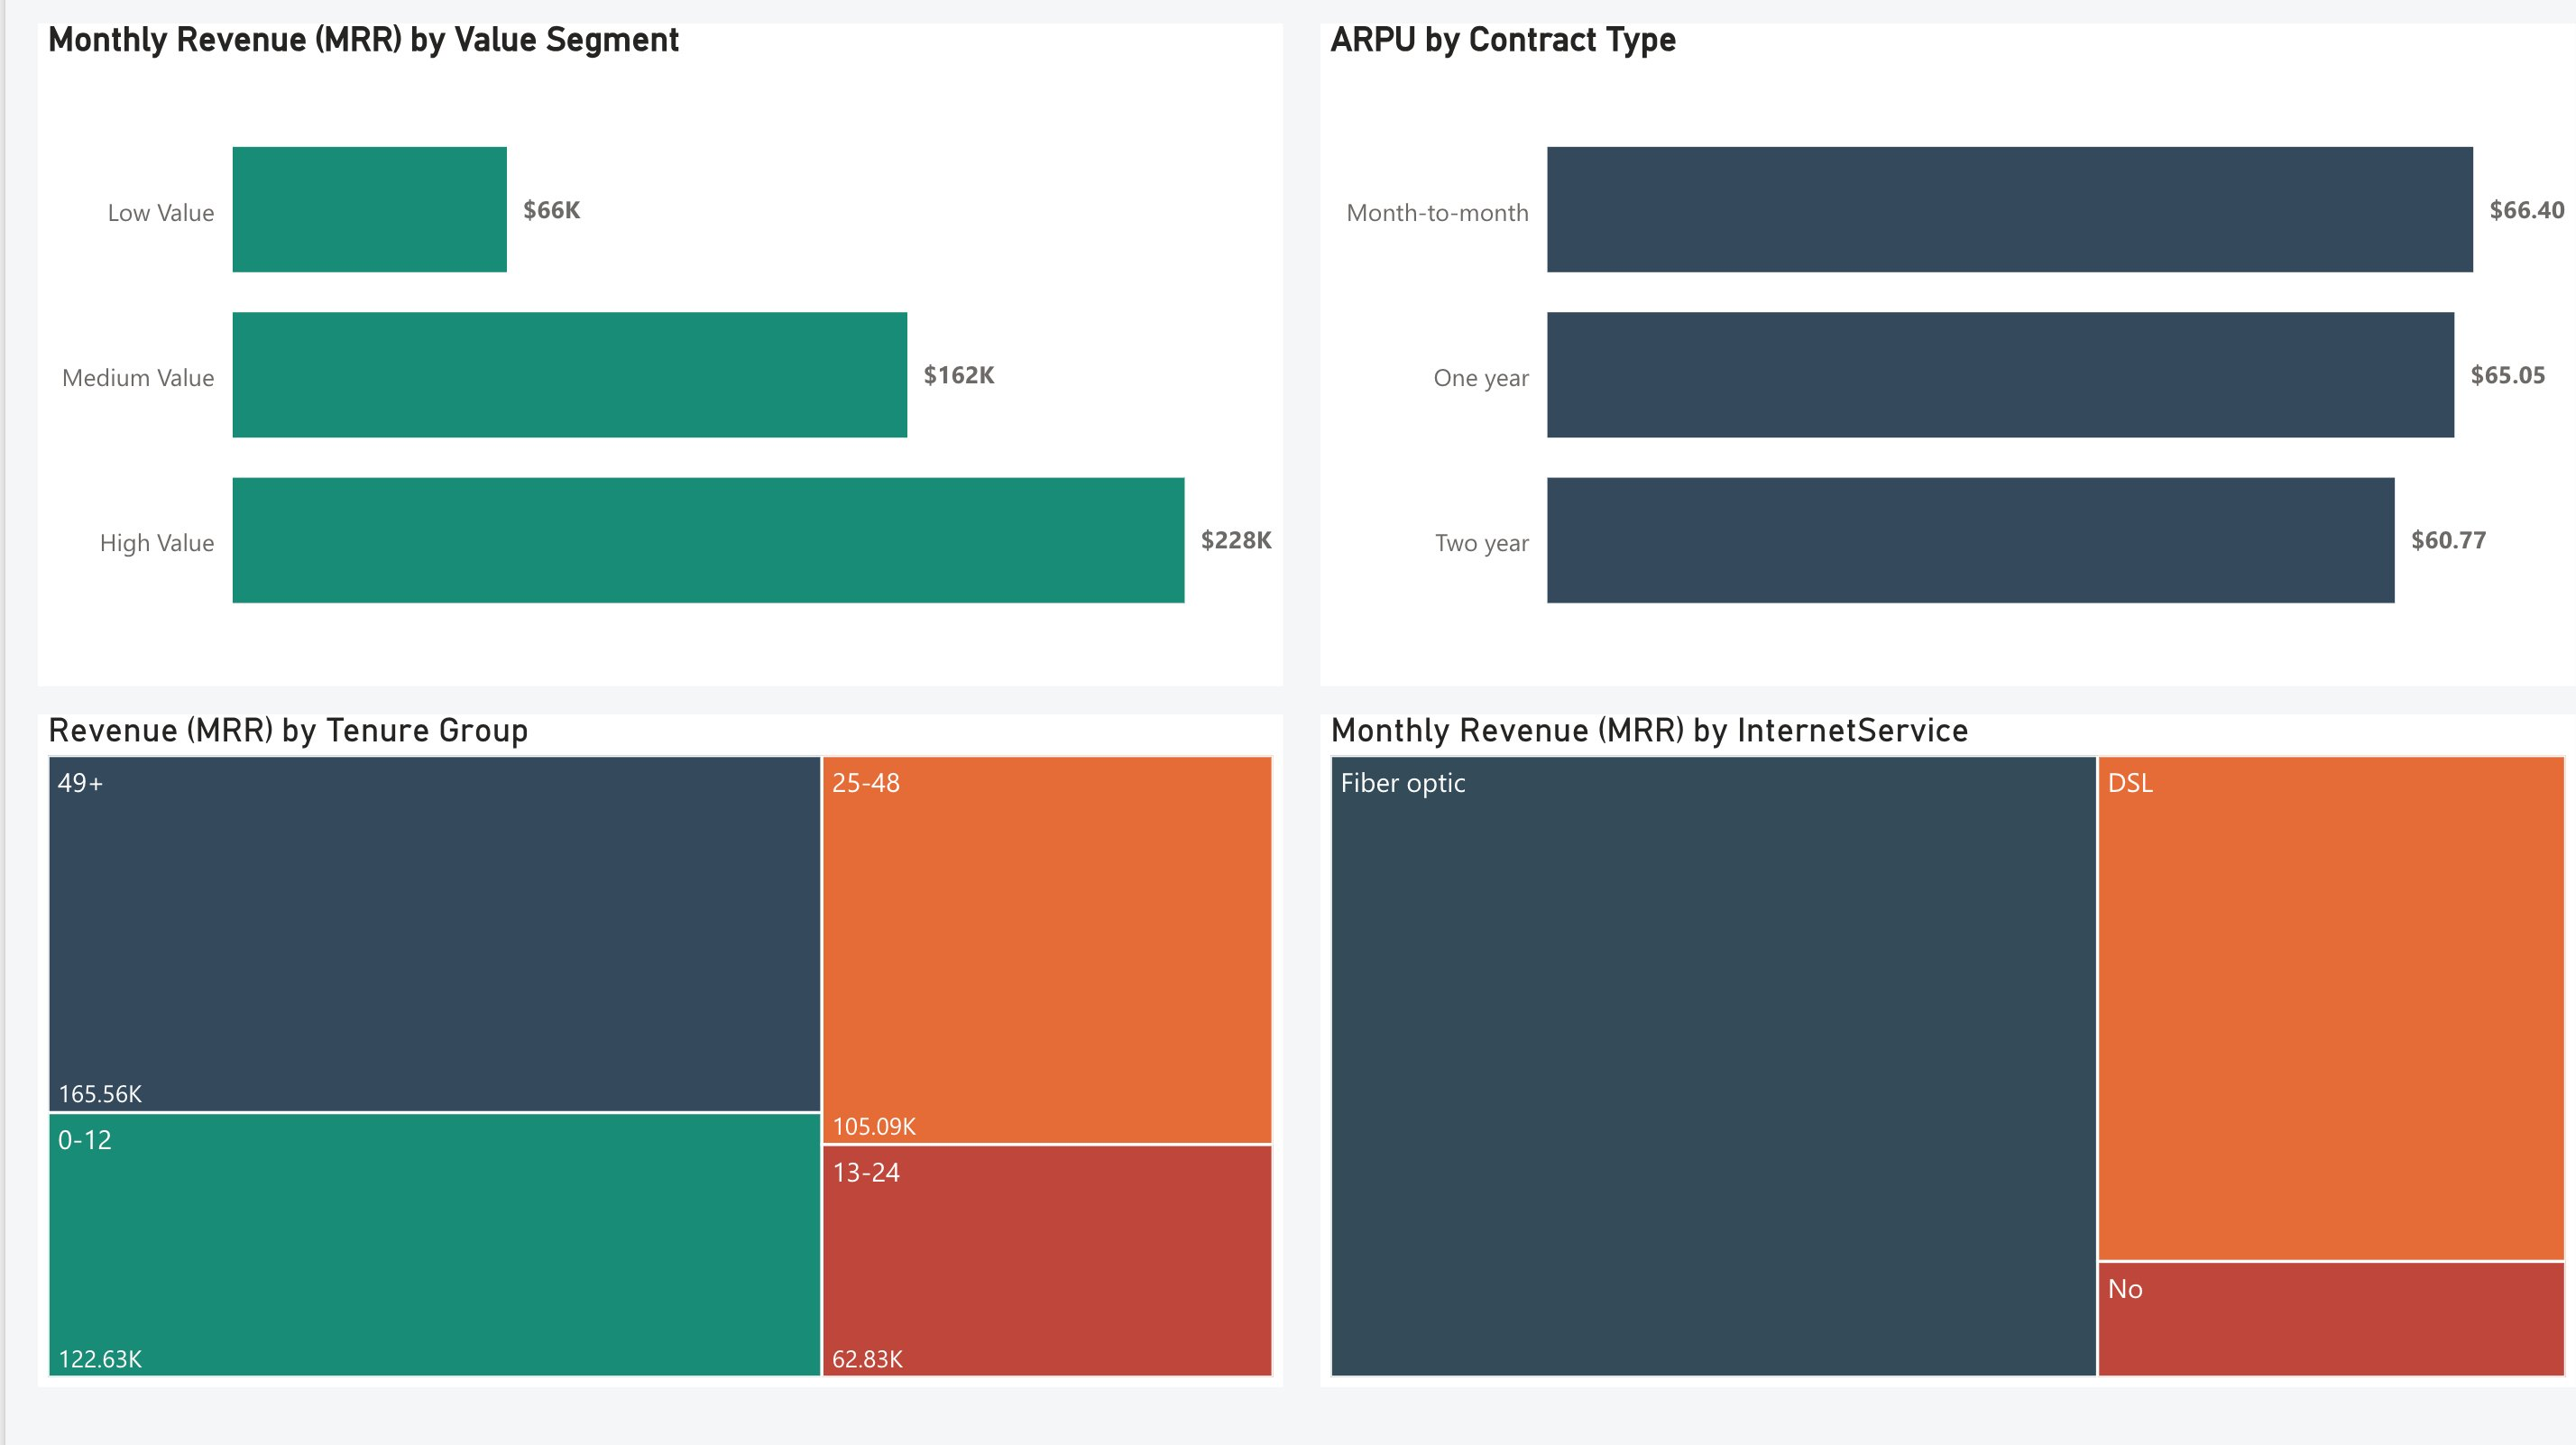

Layout of this report page (visuals, bound fields, positions):
{"tool":"powerbi","page":{"name":"Page 3","canvas":[1280,720],"ordinal":2},"visuals":[{"type":"clusteredBarChart","title":"Monthly Revenue (MRR) by Value Segment","fields":{"Category":["telco_churn_cleaned.Customer_Value_Segment"],"Y":["telco_churn_cleaned.Monthly Revenue (MRR)"]},"box":[16,12,620,330],"z":0},{"type":"clusteredBarChart","title":"ARPU by Contract Type","fields":{"Category":["telco_churn_cleaned.Contract"],"Y":["telco_churn_cleaned.ARPU"]},"box":[655,12,625,330],"z":1000},{"type":"treemap","title":"Revenue (MRR) by Tenure Group","fields":{"Group":["telco_churn_cleaned.Tenure_Group"],"Values":["telco_churn_cleaned.Monthly Revenue (MRR)"]},"box":[16,356,620,335],"z":2000},{"type":"treemap","fields":{"Group":["telco_churn_cleaned.InternetService"],"Values":["telco_churn_cleaned.Monthly Revenue (MRR)"]},"box":[655,356,625,335],"z":3000}]}

Visuals, with their boxes in screenshot pixels (x1, y1, x2, y2), scaled from the page's 1280x720 canvas onto the 2576x1445 screenshot:
"Monthly Revenue (MRR) by Value Segment" clusteredBarChart: rect(32, 24, 1280, 686)
"ARPU by Contract Type" clusteredBarChart: rect(1318, 24, 2575, 686)
"Revenue (MRR) by Tenure Group" treemap: rect(32, 714, 1280, 1386)
treemap - telco_churn_cleaned.InternetService x telco_churn_cleaned.Monthly Revenue (MRR): rect(1318, 714, 2575, 1386)
